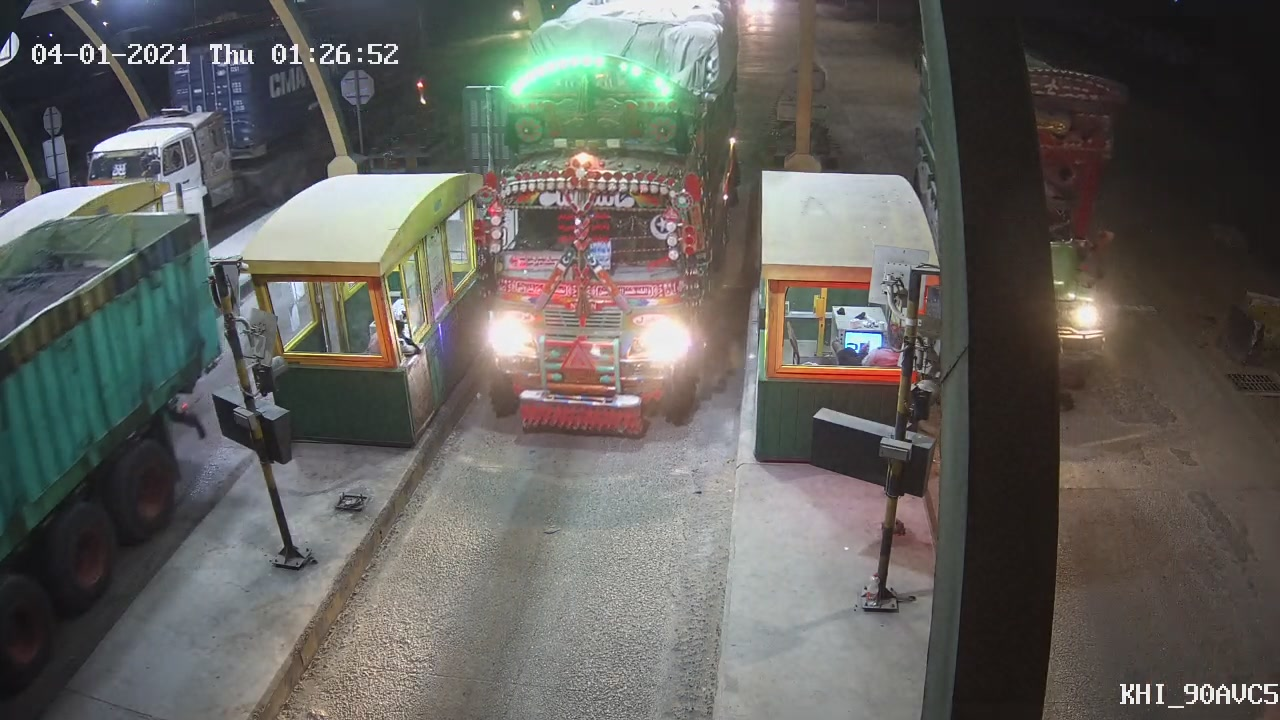F5: (469, 1, 745, 440)
